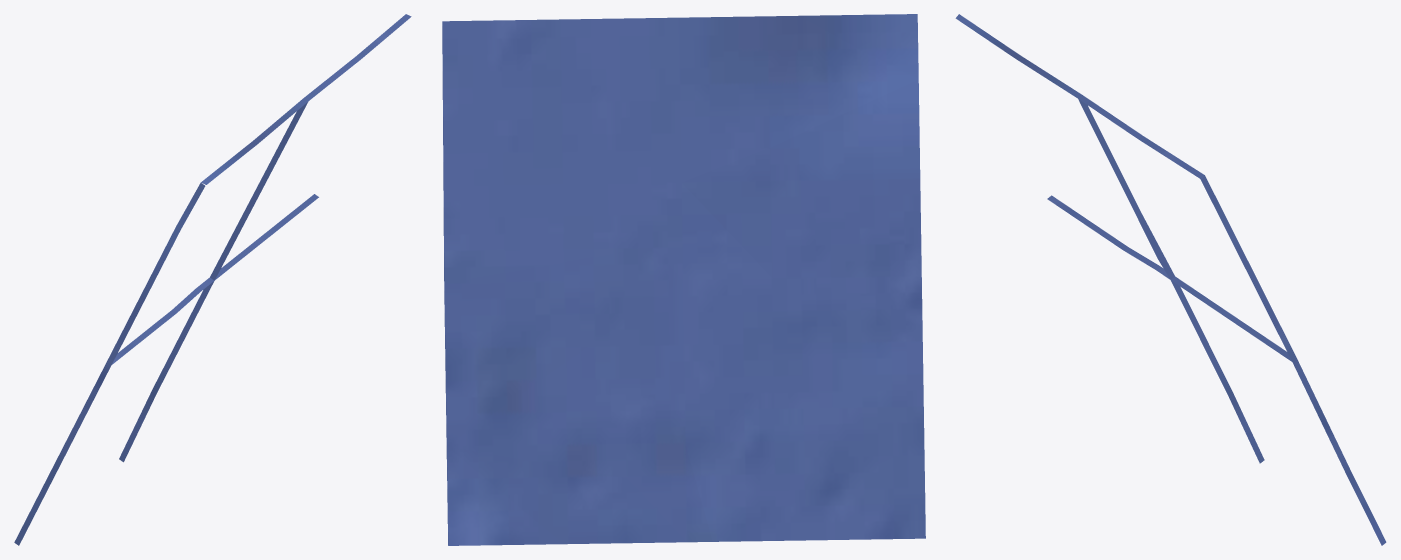
3 views of the same model, side by side, from view 1: azimuth 30°, elevation 25°; view 2: azimuth 150°, elevation 25°; view 3: azimuth 270°, elevation 25° (orthographic). The views are drawn at different scales.
Size of the model in its own units: 19640 by 17871 by 16804.
Materials: 1 (1 with a texture image).
